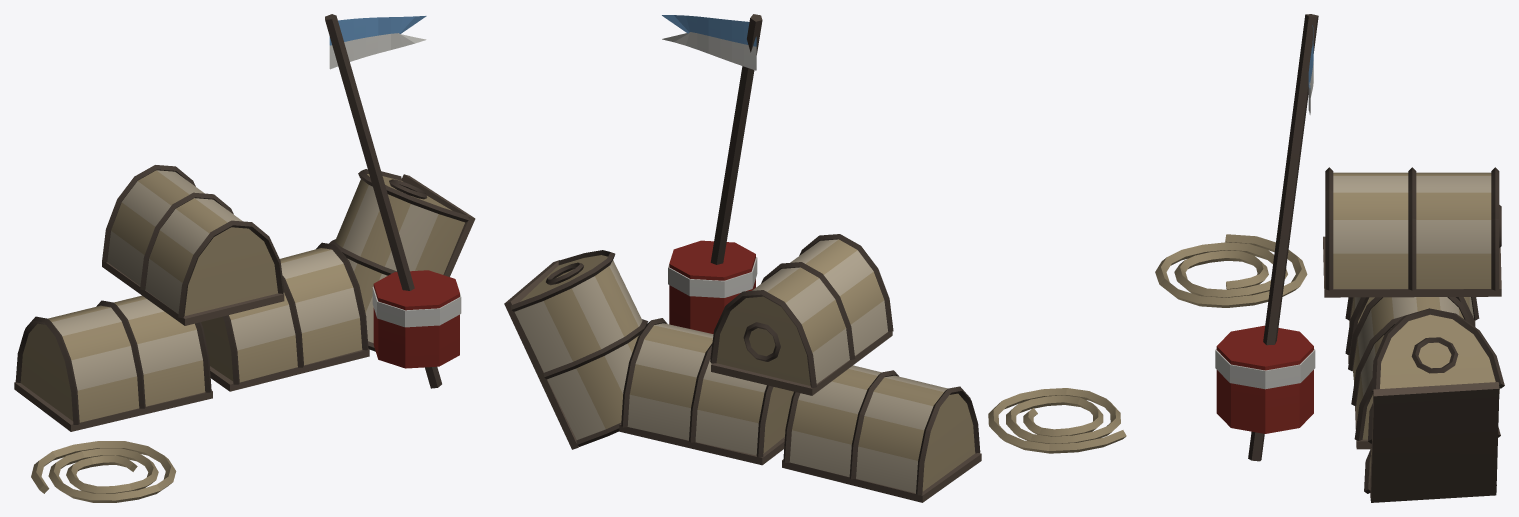
Rendered from lobster_pots.glb.
3 renders of one model, left to right at view 1: azimuth 30°, elevation 25°; view 2: azimuth 150°, elevation 25°; view 3: azimuth 270°, elevation 25°, orthographic. The views are drawn at different scales.
Parts seen in each view (by area): view 1: isl_lobster_pots; view 2: isl_lobster_pots; view 3: isl_lobster_pots.
Boxes of the visible parts, left/top/right/bottom form: isl_lobster_pots: left=14, top=14, right=475, bottom=502; isl_lobster_pots: left=504, top=14, right=1126, bottom=502; isl_lobster_pots: left=1155, top=14, right=1504, bottom=502.
Bounding box in the file's own units: 2.21 × 1.67 × 1.22.
